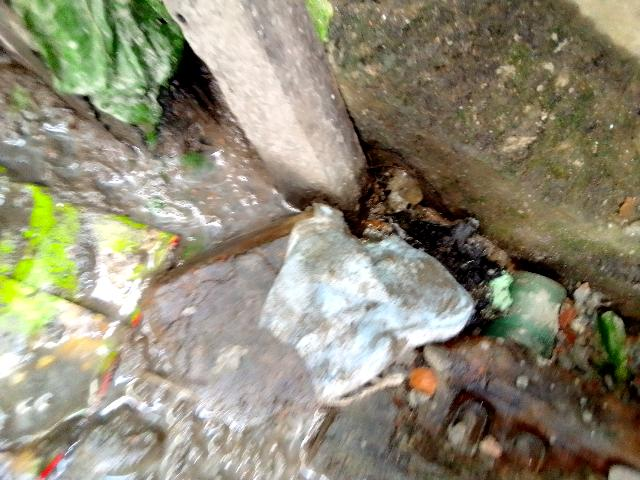mask: (267, 215, 469, 372)
